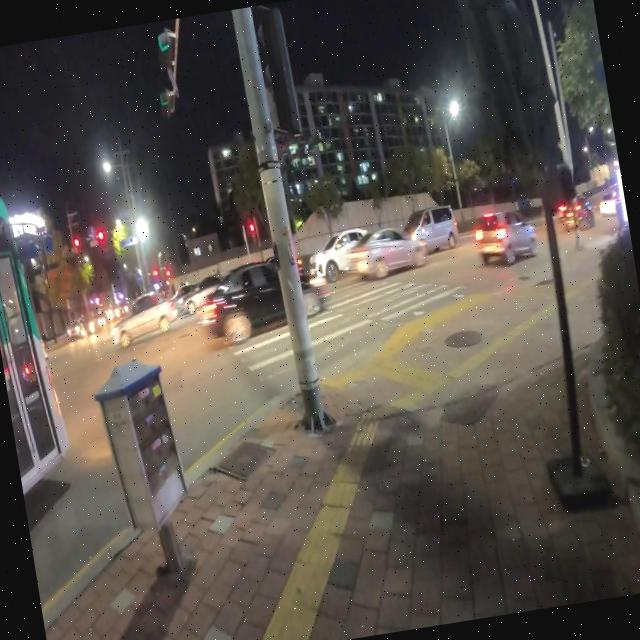crosswalk: (220, 271, 480, 395)
